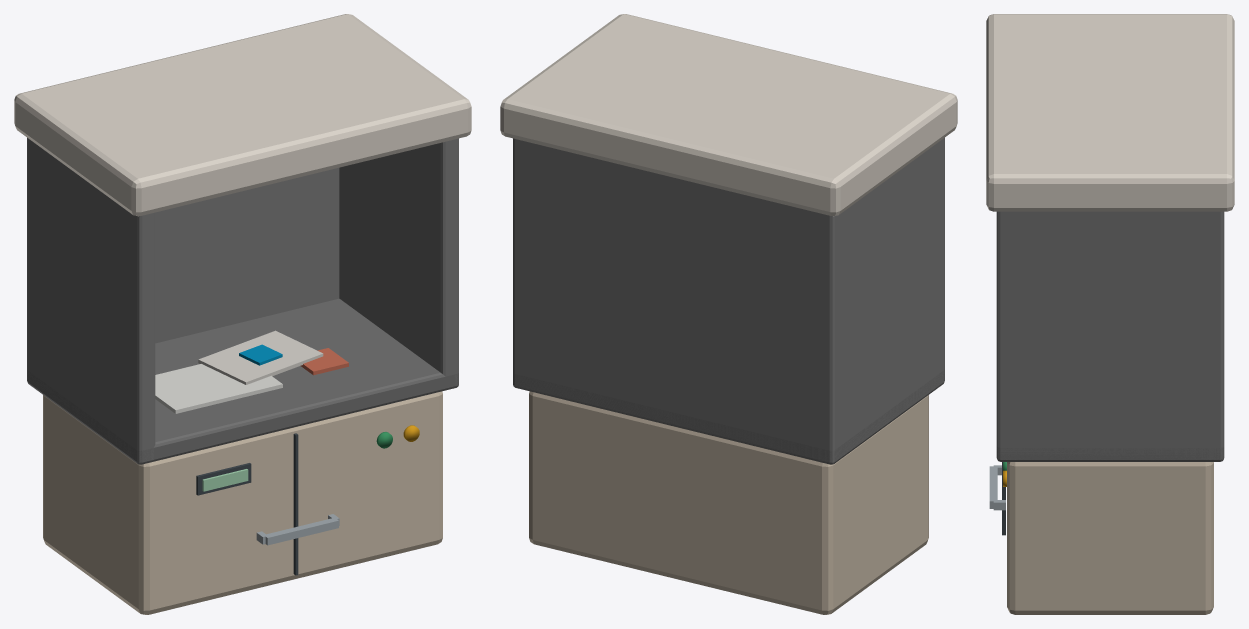
The model's file is m_booth.glb.
3 views of the same model, side by side, from view 1: azimuth 30°, elevation 25°; view 2: azimuth 150°, elevation 25°; view 3: azimuth 270°, elevation 25° (orthographic).
Parts seen in each view (by area): view 1: m_booth; view 2: m_booth; view 3: m_booth.
Boxes of the visible parts, x1,y1,x2,y2 form: m_booth: (14, 14, 471, 614); m_booth: (500, 14, 957, 614); m_booth: (986, 14, 1234, 614).
Size of the model in its own units: 0.38 by 0.48 by 0.24.
